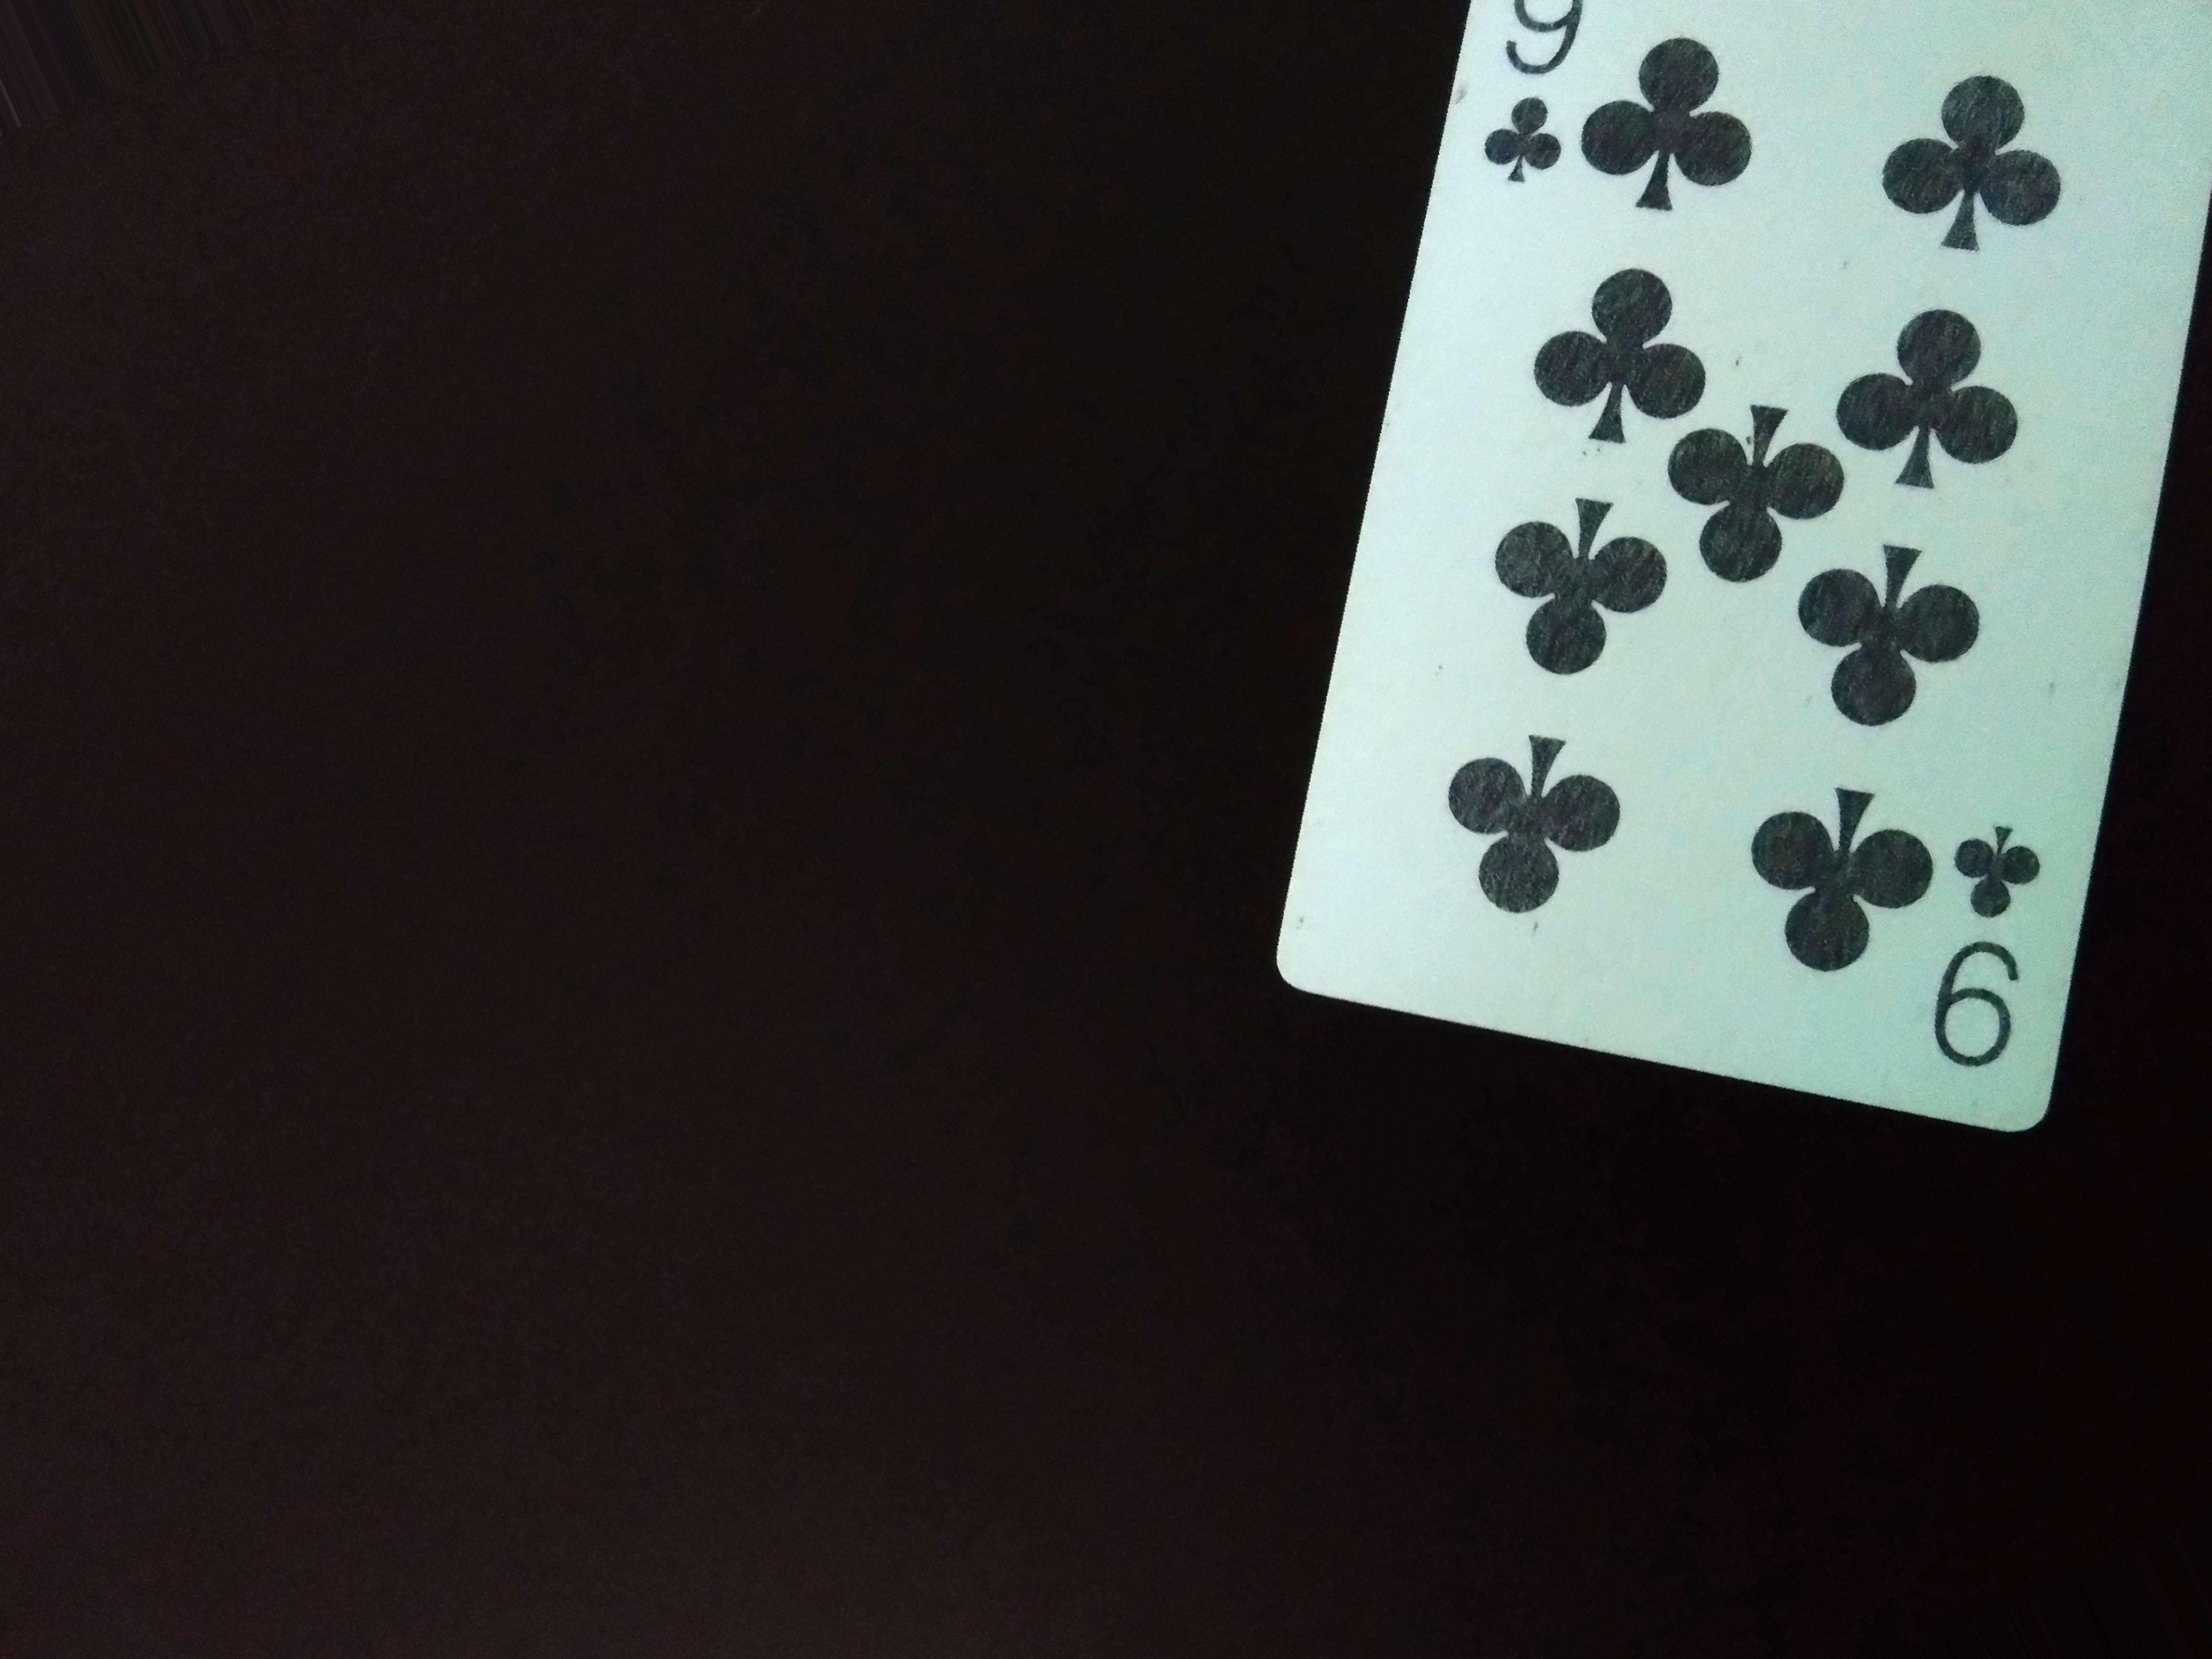9C: (1946, 805, 2055, 1103)
